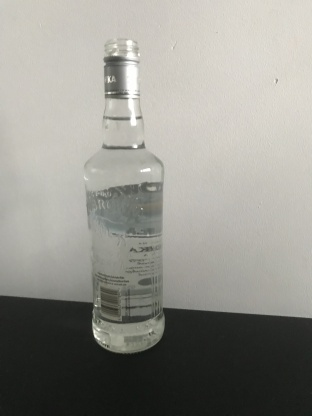nakretka: (101, 35, 142, 100)
